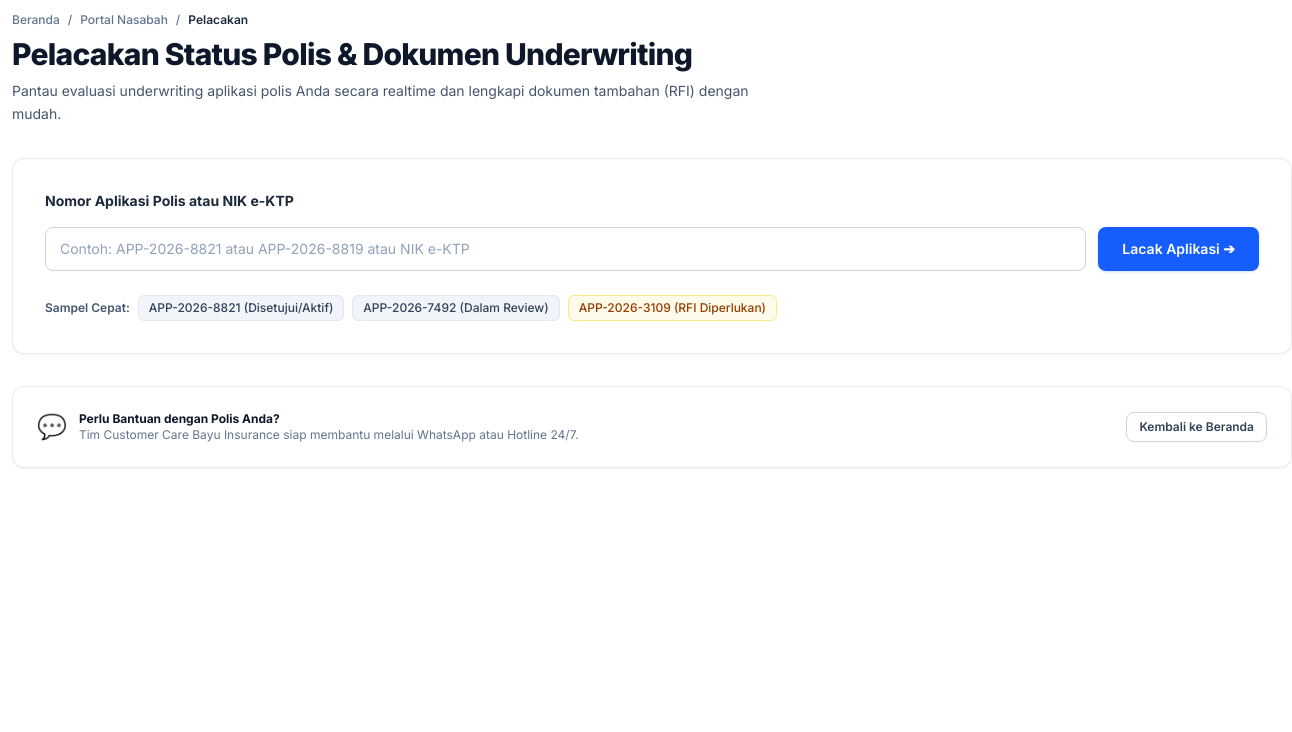
Test: TrackingPage & TrackingWorkbench › handles service errors gracefully during search
The image size is (1292, 732).
Type "APP-2026-8821" into the field with placeholder "Contoh: APP-2026-8821 atau APP-2026-8819 atau NIK e-KTP".
click(566, 248); type("APP-2026-8821")  # box [45, 226, 1086, 270]
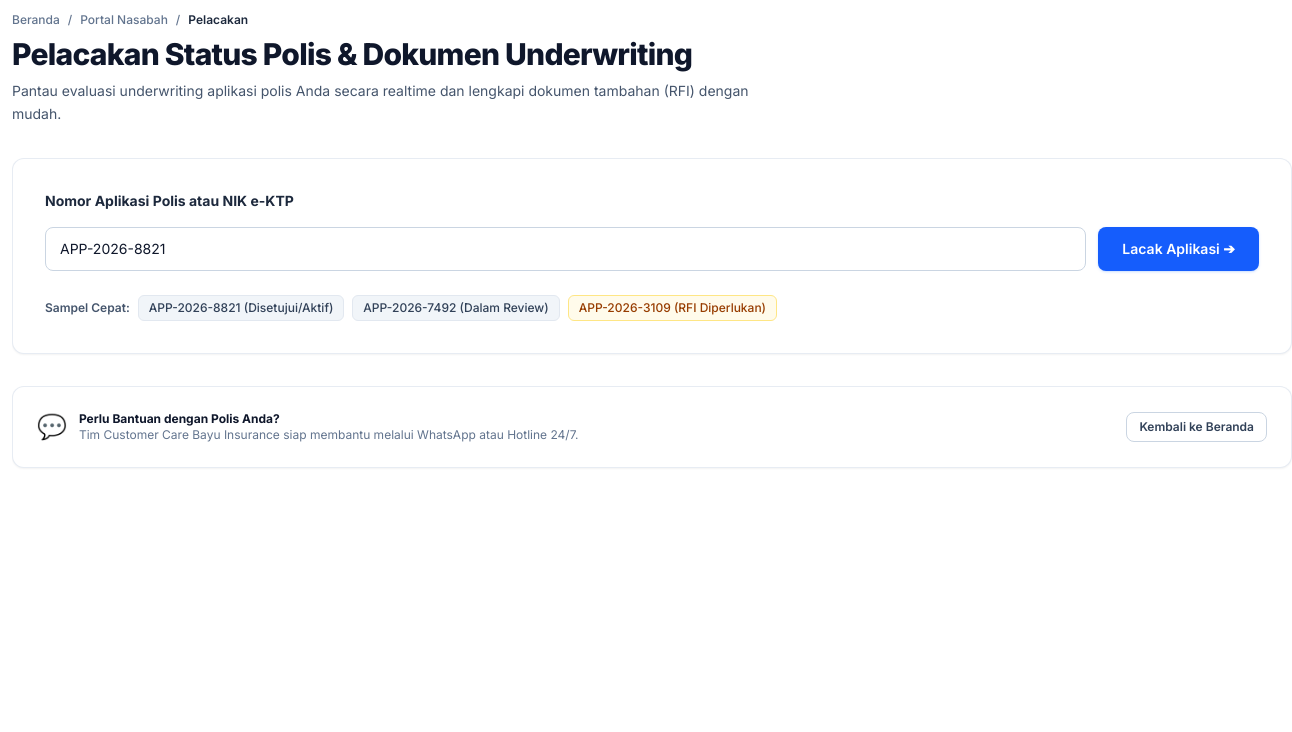
Click the button named "Lacak Status".
click(1179, 248)  # box [1098, 226, 1259, 270]
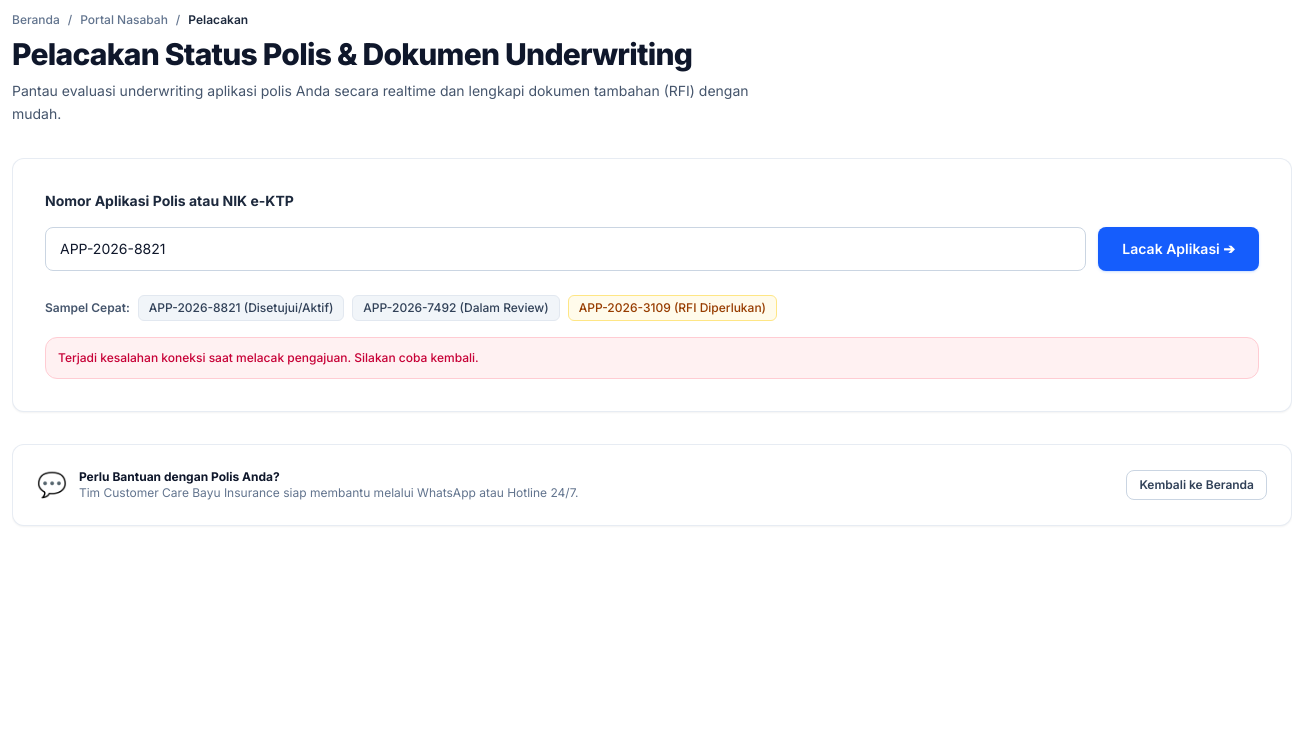
Expected: the text "Terjadi kesalahan koneksi saat melacak pengajuan" is shown, [58, 350, 479, 364]
